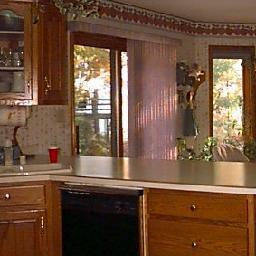Electrodomestico: (61, 183, 142, 255)
